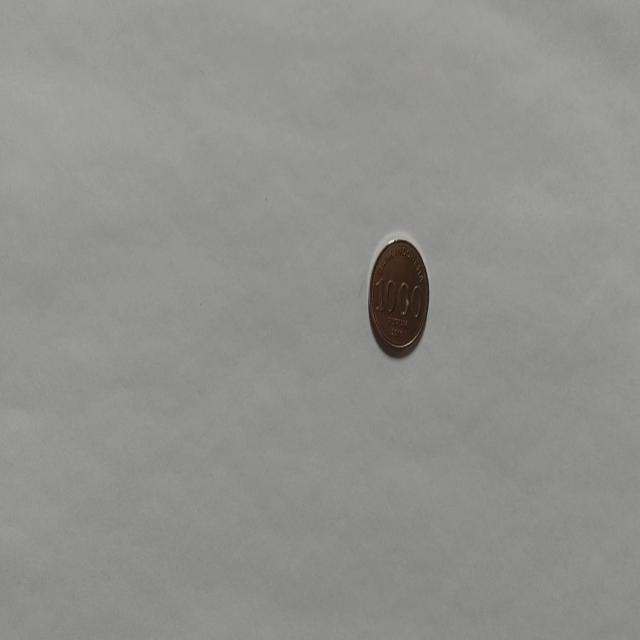seribu rupiah koin: (366, 232, 429, 358)
